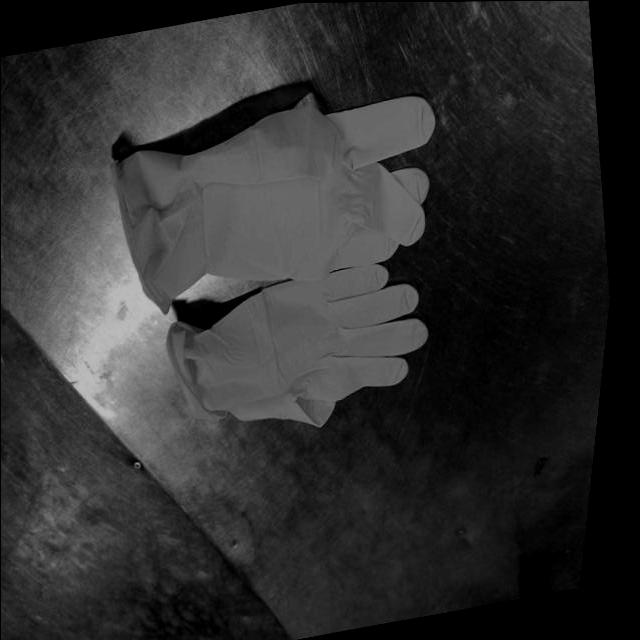General: (111, 86, 439, 429)
Infectious: (166, 264, 429, 428)
